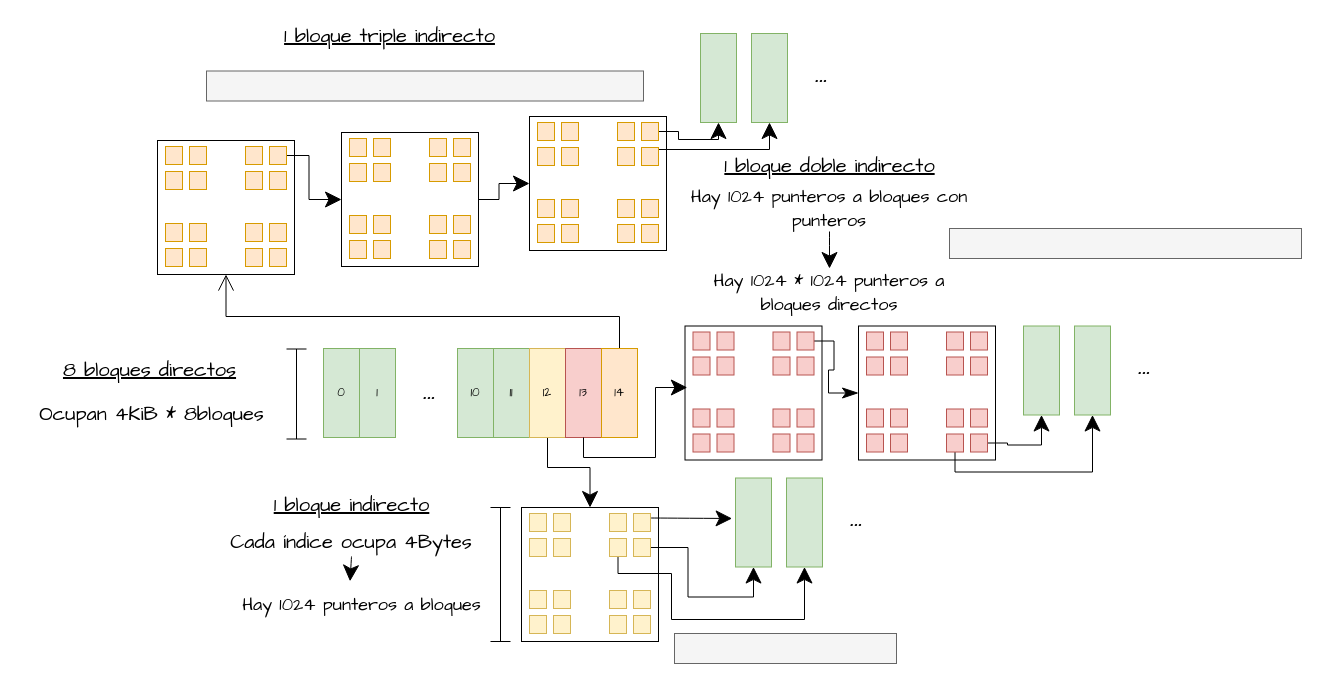
The diagram is 1319 pixels wide and 681 high, and some of its shapes have lost their labels. The shapes that lost their labels are listed below. From the top down, each one's box as (x1, y1, x2, y2) in pixels, then its label:
(206, 70, 644, 101): Ocupan 4KiB * 4KiB /4 * 4KiB /4 * 4KiB /4
(948, 228, 1302, 258): Ocupan 4KiB * 4KiB /4 * 4KiB /4
(674, 632, 896, 664): Ocupan 4KiB * 4KiB /4
